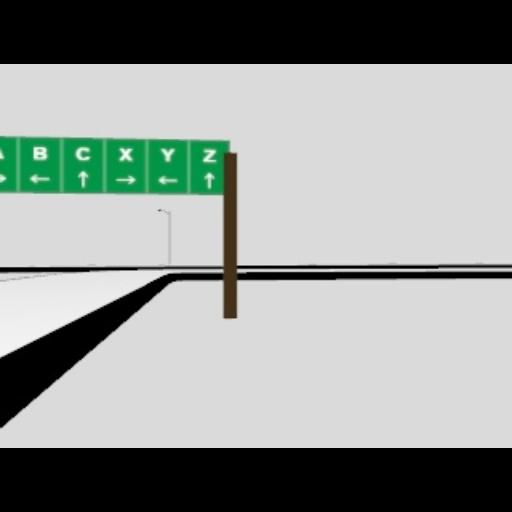B: (32, 146, 46, 160)
C: (73, 144, 91, 160)
Left: (156, 174, 178, 184), (28, 173, 50, 183)
Right: (116, 174, 136, 184), (0, 173, 6, 183)
Straight: (76, 169, 88, 187), (204, 171, 214, 189)
X: (119, 147, 133, 161)
Y: (160, 147, 174, 161)
Z: (202, 147, 216, 161)
